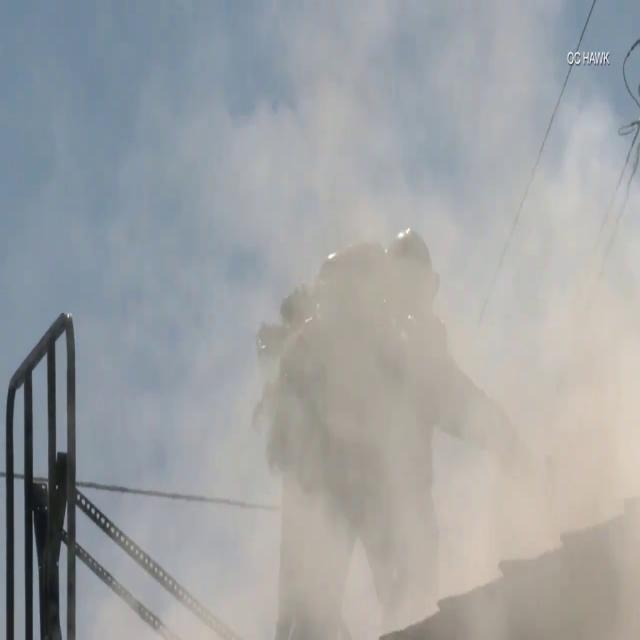Smoke: (136, 147, 638, 640)
